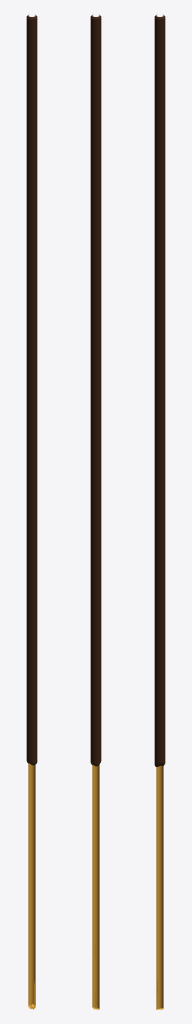
The model's file is pocky_choco1.gltf.
3 views of the same model, side by side, from view 1: azimuth 90°, elevation 25°; view 2: azimuth 210°, elevation 25°; view 3: azimuth 270°, elevation 25° (orthographic).
Parts seen in each view (by area): view 1: Cylinder.001, core_Cylinder; view 2: Cylinder.001, core_Cylinder; view 3: Cylinder.001, core_Cylinder.
Boxes of the visible parts, x1,y1,x2,y2 form: Cylinder.001: (26, 15, 37, 765); core_Cylinder: (28, 763, 35, 1009); Cylinder.001: (90, 15, 101, 766); core_Cylinder: (92, 764, 99, 1009); Cylinder.001: (154, 15, 165, 766); core_Cylinder: (156, 766, 163, 1009).
Size of the model in its own units: 0.4267 by 42.77 by 0.4267.
